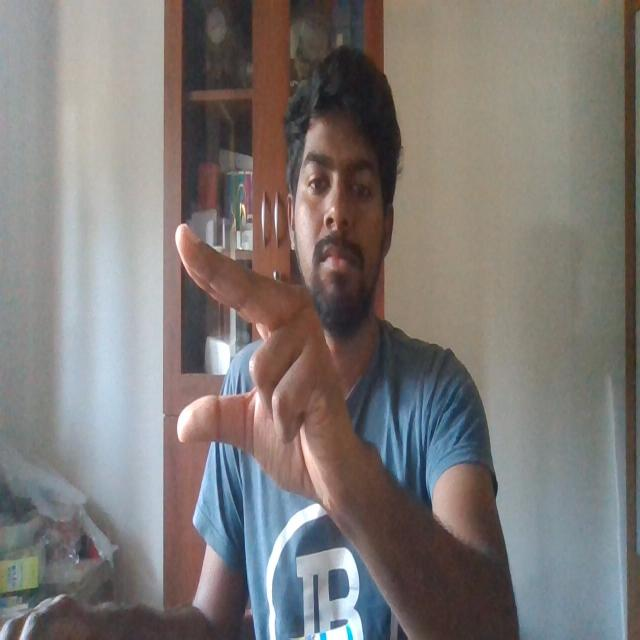No: (173, 218, 345, 514)
